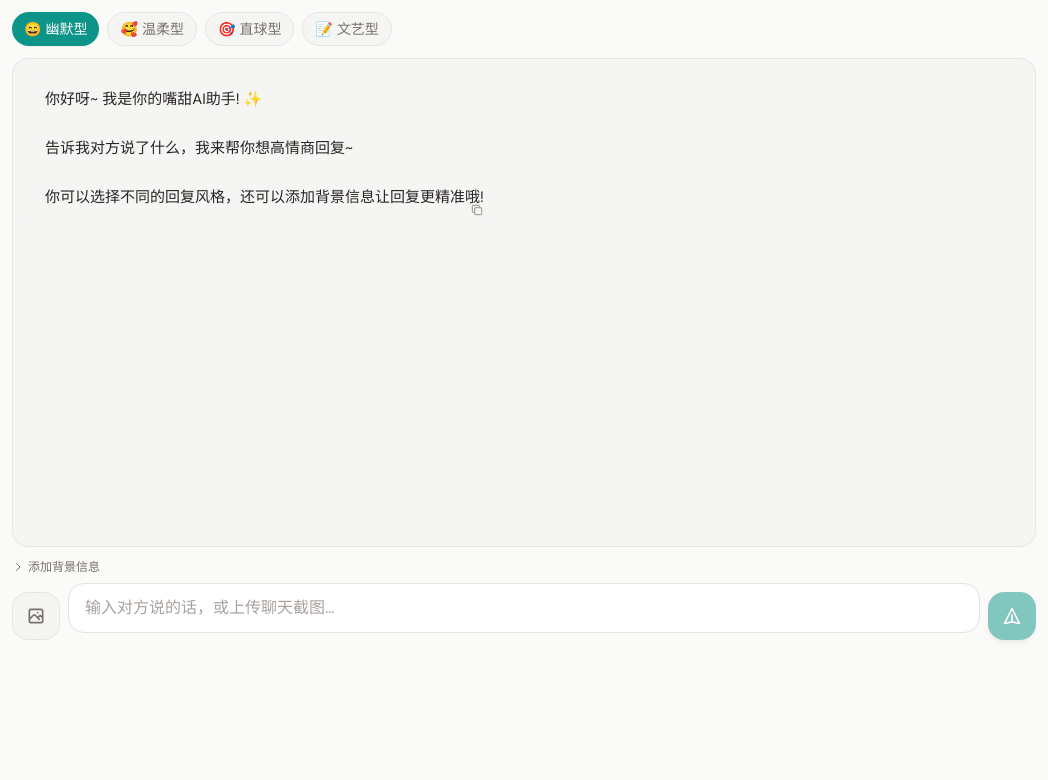
ChatAssistant › adds user message to chat after sending
The width and height of the screenshot is (1048, 780).
In the text box with placeholder "输入对方说的话，或上传聊天截图...": (524, 608) top-left (68, 583), bottom-right (980, 633), type "my test message"
Then press Enter
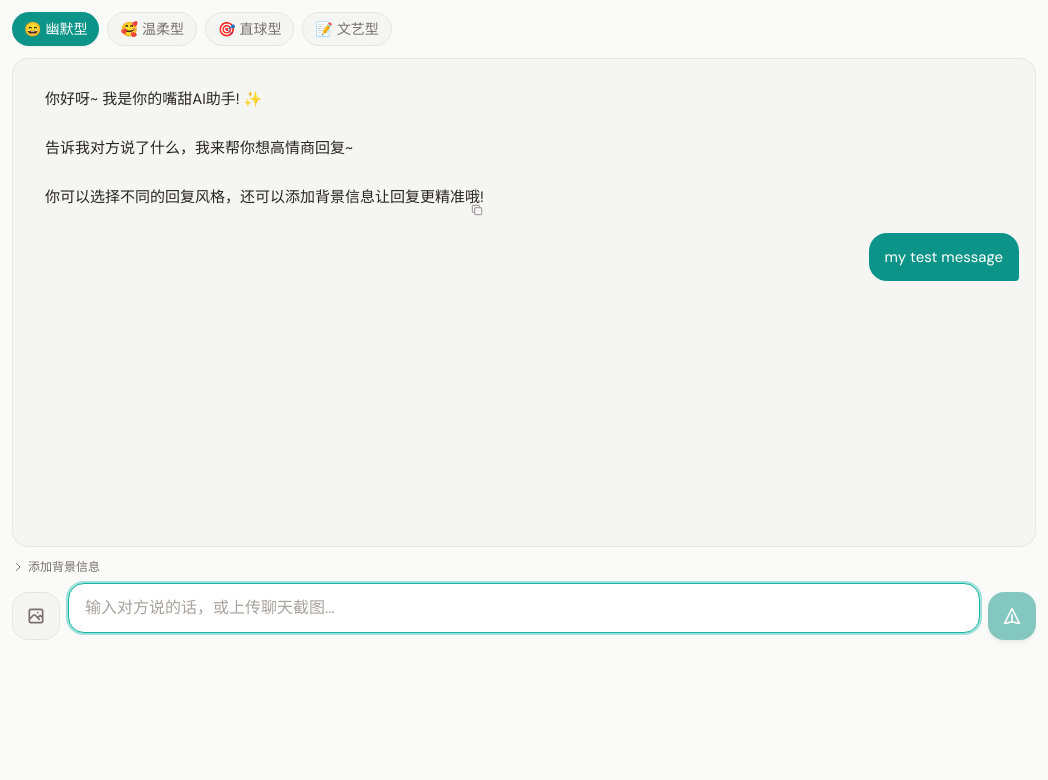
Expected: the text "my test message" is shown, top-left (885, 247), bottom-right (1003, 267)
